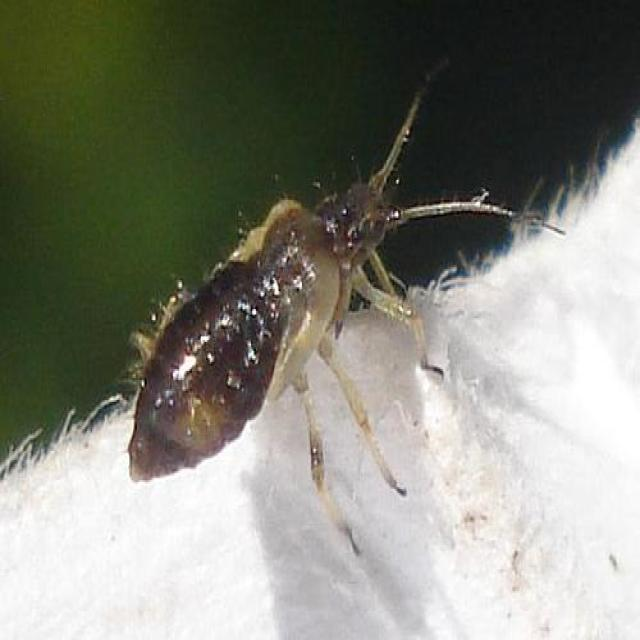Aphids: (86, 87, 582, 515)
